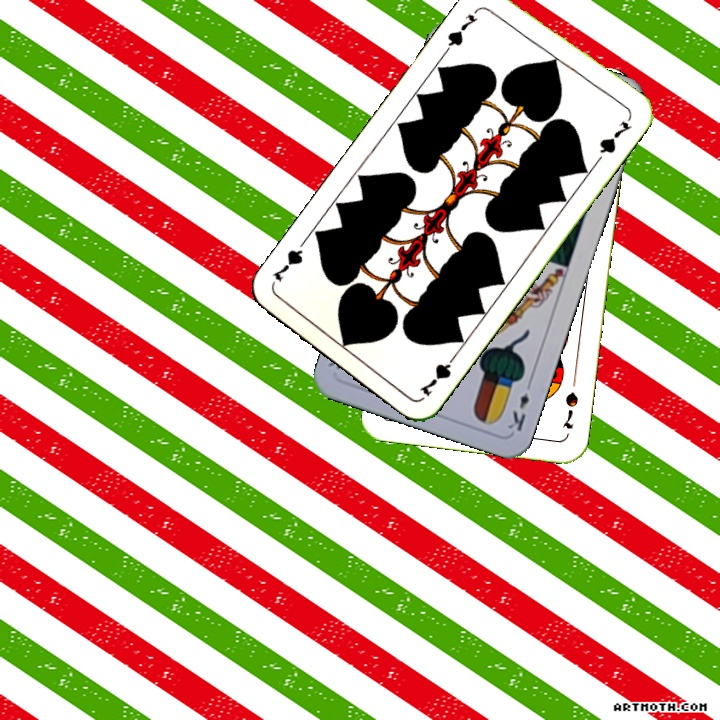EK: (504, 376, 535, 434)
G7: (415, 348, 461, 399), (442, 10, 480, 54)
S7: (559, 388, 581, 432)
